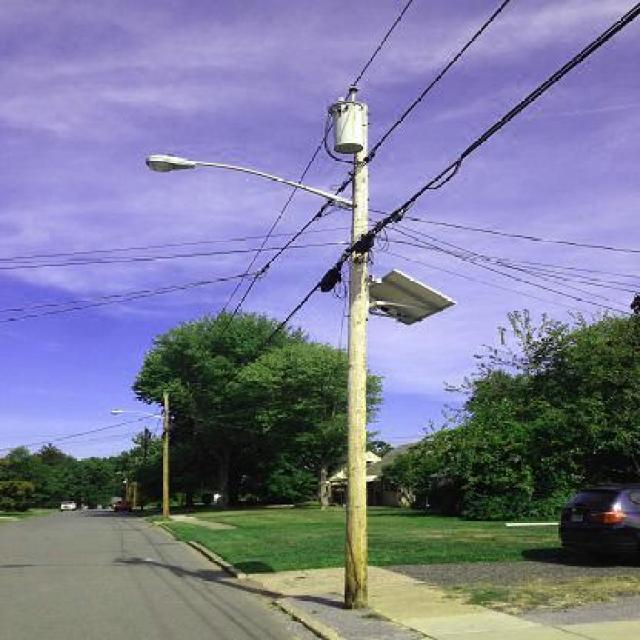pole: (288, 74, 429, 601)
